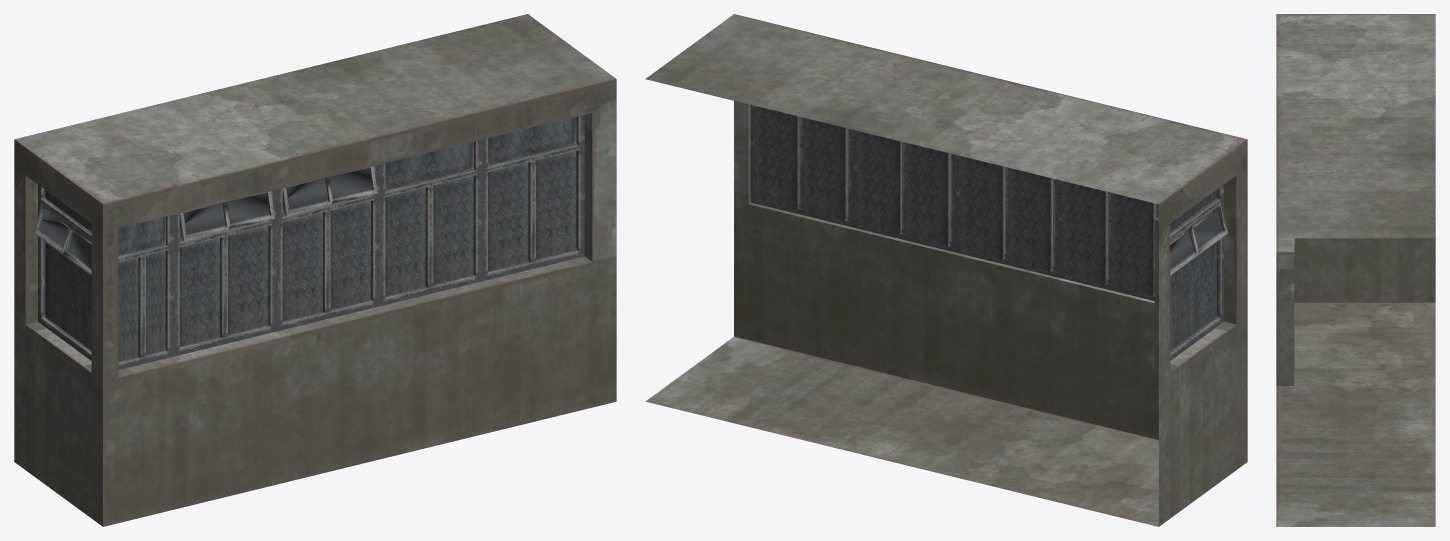
Rendered from sm_floor_three_l.glb.
3 renders of one model, left to right at view 1: azimuth 30°, elevation 25°; view 2: azimuth 150°, elevation 25°; view 3: azimuth 270°, elevation 25°, orthographic. The views are drawn at different scales.
Parts seen in each view (by area): view 1: sm_floor_three_l; view 2: sm_floor_three_l; view 3: sm_floor_three_l.
Boxes of the visible parts, bbox=[...] form: sm_floor_three_l: bbox=[14, 14, 616, 526]; sm_floor_three_l: bbox=[645, 14, 1247, 526]; sm_floor_three_l: bbox=[1276, 14, 1435, 526].
Size of the model in its own units: 5 by 3 by 1.5.
2 materials, 2 textured.
